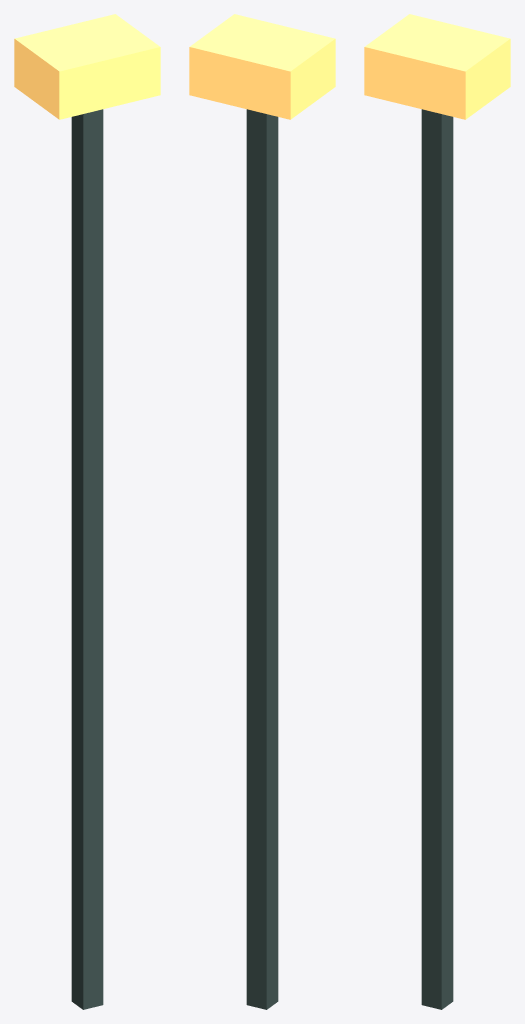
The model's file is work-light.glb.
3 renders of one model, left to right at view 1: azimuth 30°, elevation 25°; view 2: azimuth 150°, elevation 25°; view 3: azimuth 330°, elevation 25°, orthographic.
Parts seen in each view (by area): view 1: work-light; view 2: work-light; view 3: work-light.
Boxes of the visible parts, x1,y1,x2,y2 form: work-light: (14,14,160,1009); work-light: (189,14,335,1009); work-light: (364,14,510,1009).
Size of the model in its own units: 0.35 by 3.18 by 0.27.
